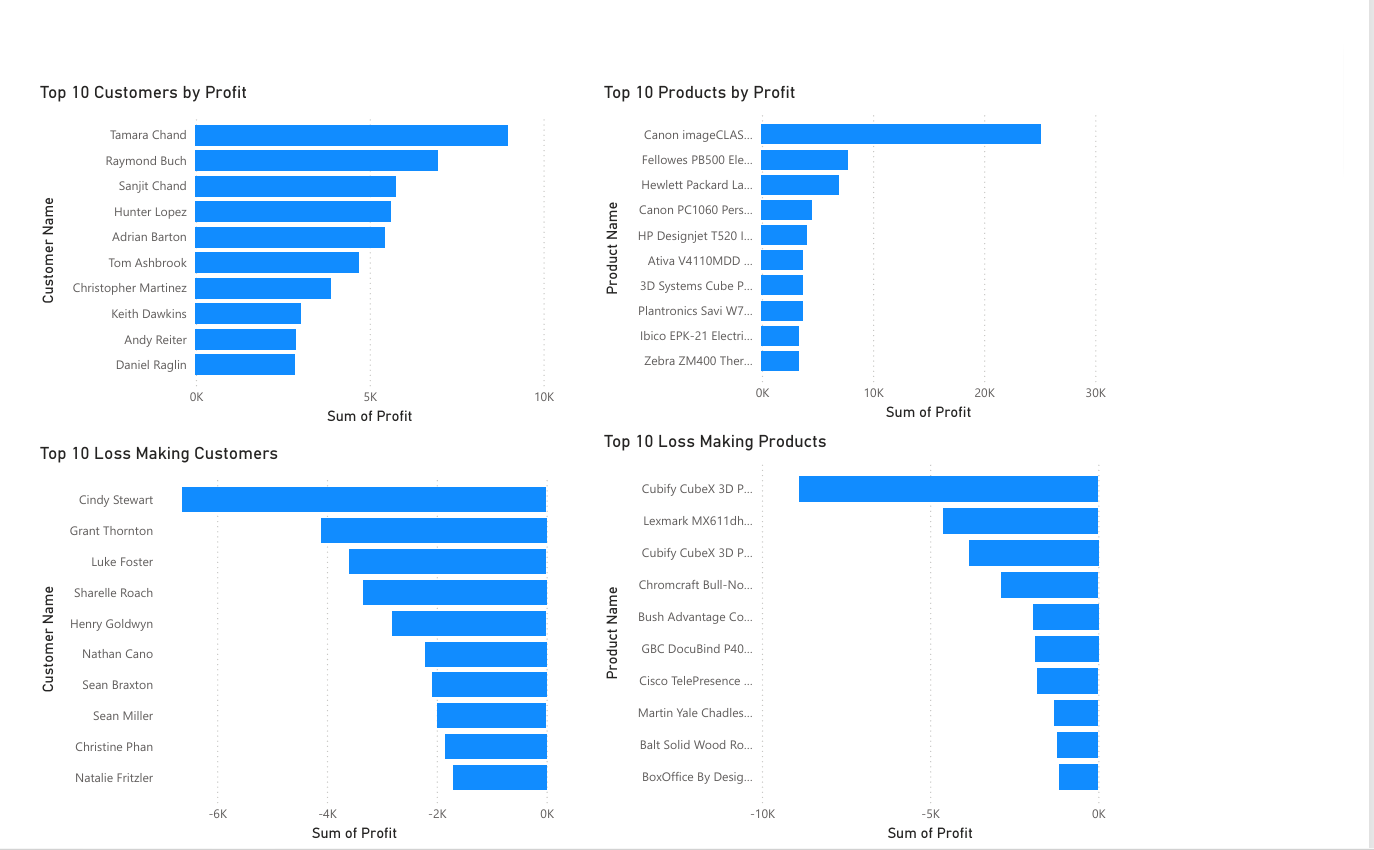

What the dashboard file says about the page in this screenshot:
{"tool":"powerbi","page":{"name":"Customer and Product Analysis","canvas":[1300,850],"ordinal":1},"visuals":[{"type":"clusteredBarChart","title":"Top 10 Products by Profit","fields":{"Category":["Sample_Superstore_Cleaned.Product Name"],"Y":["Sum(Sample_Superstore_Cleaned.Profit)"]},"box":[571.7,71.7,501.7,336.7],"z":0},{"type":"clusteredBarChart","title":"Top 10 Customers by Profit ","fields":{"Category":["Sample_Superstore_Cleaned.Customer Name"],"Y":["Sum(Sample_Superstore_Cleaned.Profit)"]},"box":[20,71.7,513.3,340],"z":1000},{"type":"clusteredBarChart","title":"Top 10 Loss Making Customers","fields":{"Y":["Sum(Sample_Superstore_Cleaned.Profit)"],"Category":["Sample_Superstore_Cleaned.Customer Name"]},"box":[20,425,513.3,395],"z":1001},{"type":"clusteredBarChart","title":"Top 10 Loss Making Products","fields":{"Category":["Sample_Superstore_Cleaned.Product Name"],"Y":["Sum(Sample_Superstore_Cleaned.Profit)"]},"box":[571.7,413.3,501.7,406.7],"z":1002}]}

Visuals, with their boxes on the page's 1300x850 design canvas (x1, y1, x2, y2). These are canvas units, not pixel positions in the 1374x850 screenshot, which may show the page scaled, cropped or inside an application window:
"Top 10 Products by Profit" clusteredBarChart: 572, 72, 1073, 408
"Top 10 Customers by Profit " clusteredBarChart: 20, 72, 533, 412
"Top 10 Loss Making Customers" clusteredBarChart: 20, 425, 533, 820
"Top 10 Loss Making Products" clusteredBarChart: 572, 413, 1073, 820
